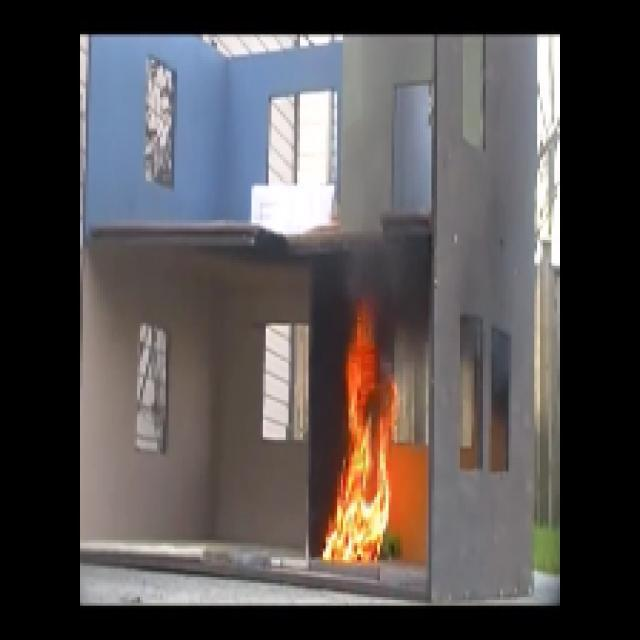Fire: (334, 336, 389, 580)
Smoke: (324, 239, 439, 309)
